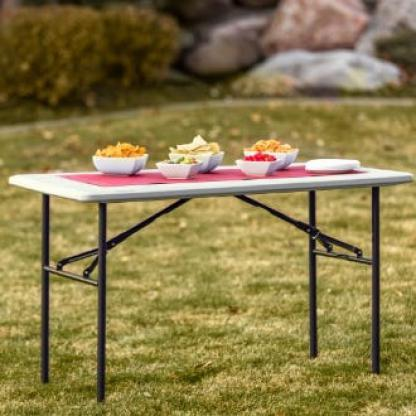table: (3, 145, 415, 404)
